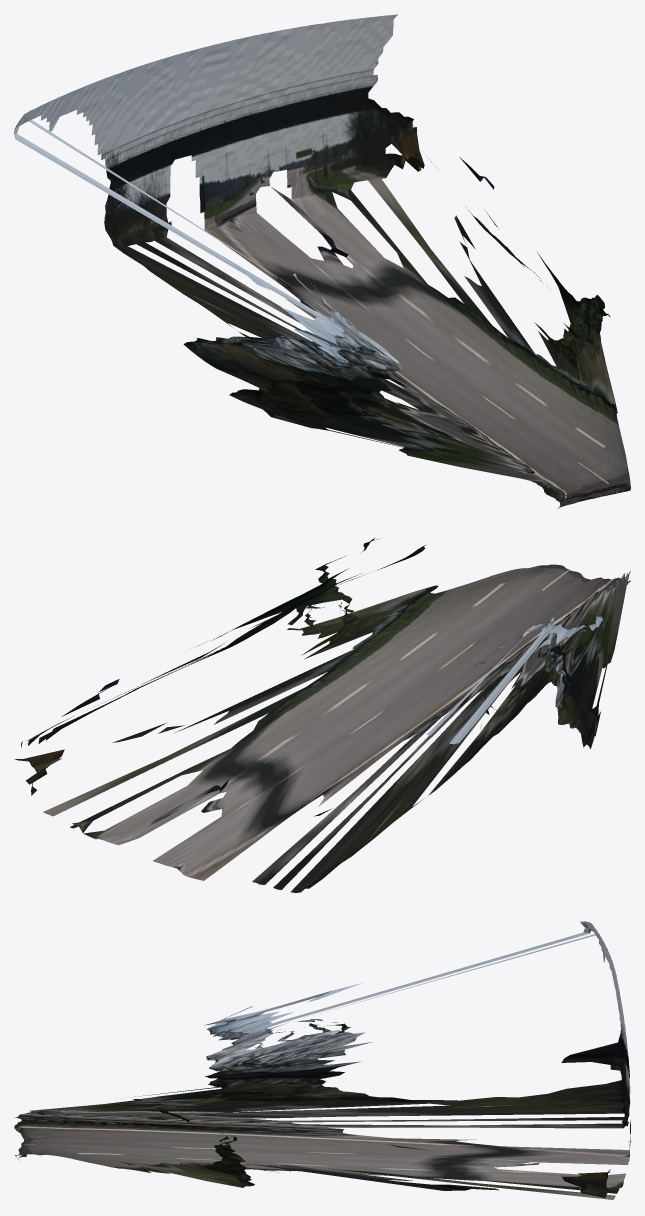
3 views of the same model, one above another, from view 1: azimuth 30°, elevation 25°; view 2: azimuth 150°, elevation 25°; view 3: azimuth 270°, elevation 25° (orthographic). The views are drawn at different scales.
Visible parts, largest first — view 1: defaultobject; view 2: defaultobject; view 3: defaultobject.
Boxes of the visible parts, left/top/right/bottom form: defaultobject: left=14, top=14, right=630, bottom=508; defaultobject: left=14, top=538, right=630, bottom=892; defaultobject: left=14, top=921, right=630, bottom=1199.
Bounding box in the file's own units: 27.77 × 12.09 × 44.5.
1 material, 1 textured.
